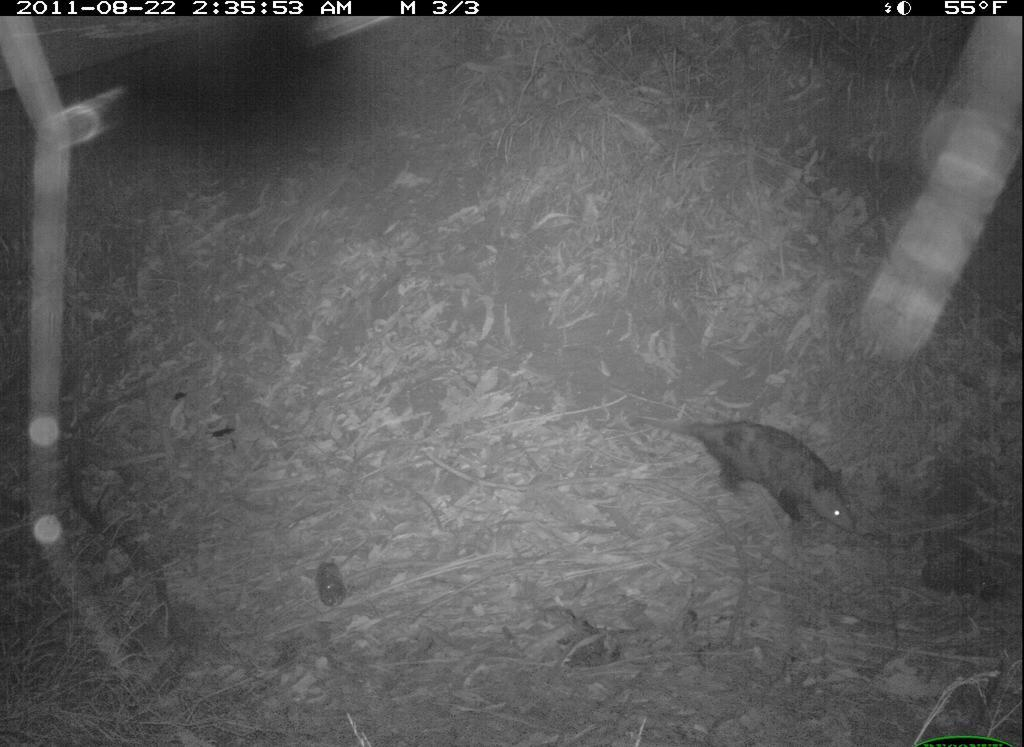opossum: (630, 410, 863, 541)
